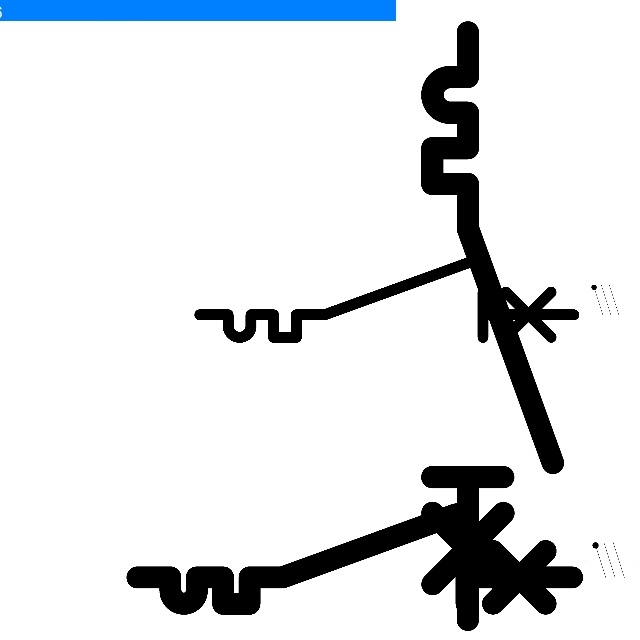interruptor_termomagnetico: (417, 17, 568, 635), (126, 503, 583, 615), (190, 251, 583, 347)
